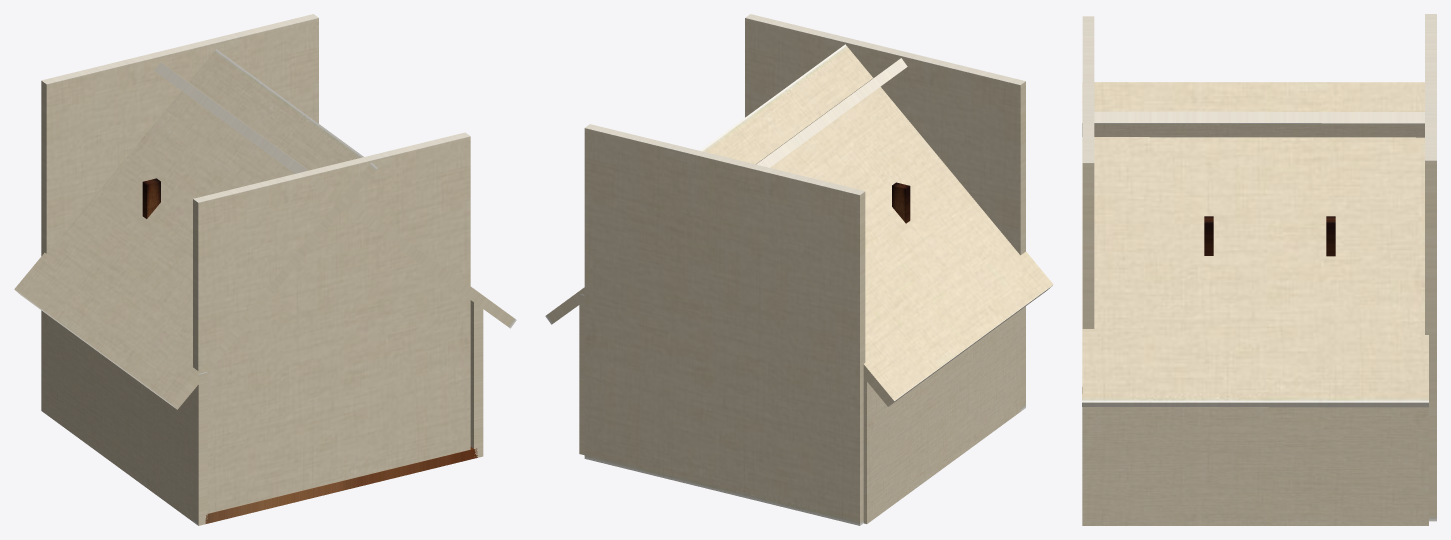
File: pingpong_final_texture.gltf
The picture shows the model from 3 angles, left to right: view 1: azimuth 30°, elevation 25°; view 2: azimuth 150°, elevation 25°; view 3: azimuth 270°, elevation 25°; orthographic projection. The views are drawn at different scales.
Parts seen in each view (by area): view 1: Plane.012, Plane.026, Plane.016, Plane.011, Plane.015, Plane.014, Plane.013, Plane.035; view 2: Plane.016, Plane.026, Plane.012, Plane.011, Plane.015, Plane.013, Plane.034; view 3: Plane.015, Plane.013, Plane.026, Plane.016, Plane.012.
Part boxes in pixels (box(x1,y1,x2,y2)): Plane.012: box(193, 132, 470, 525); Plane.026: box(14, 49, 377, 409); Plane.016: box(41, 14, 318, 255); Plane.011: box(41, 310, 207, 525); Plane.015: box(155, 63, 516, 328); Plane.014: box(205, 447, 477, 523); Plane.013: box(470, 300, 483, 457); Plane.035: box(142, 178, 160, 218); Plane.016: box(584, 124, 865, 525); Plane.026: box(700, 44, 1053, 406); Plane.012: box(745, 14, 1025, 411); Plane.011: box(863, 310, 1025, 523); Plane.015: box(545, 58, 907, 324); Plane.013: box(579, 294, 584, 455); Plane.034: box(892, 182, 910, 223); Plane.015: box(1082, 82, 1428, 407); Plane.013: box(1082, 407, 1428, 525); Plane.026: box(1082, 111, 1424, 137); Plane.016: box(1425, 14, 1436, 521); Plane.012: box(1082, 16, 1094, 328).
Size of the model in its own units: 49.25 by 44.53 by 39.69.
186 materials, 186 textured.
